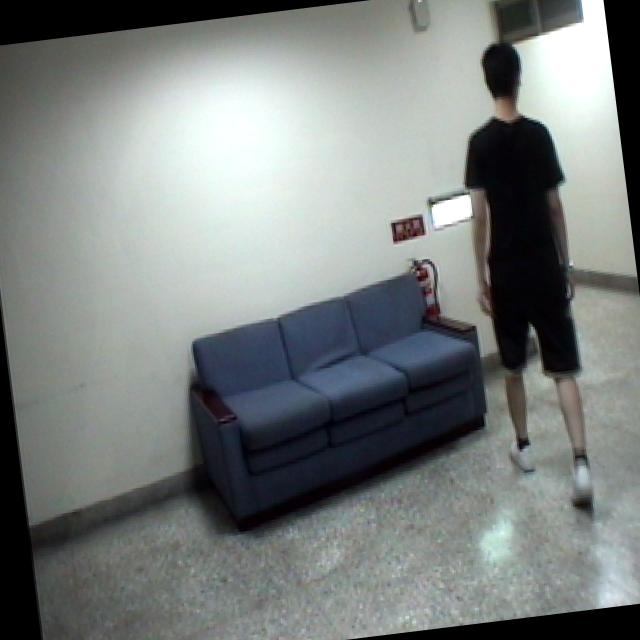stand: (444, 26, 607, 515)
